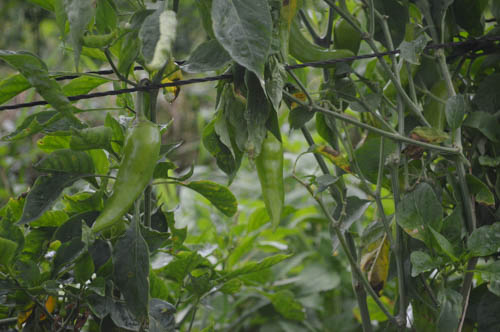ChiliPepper: (93, 123, 162, 237), (258, 141, 283, 227), (287, 32, 352, 65), (335, 20, 362, 52)
